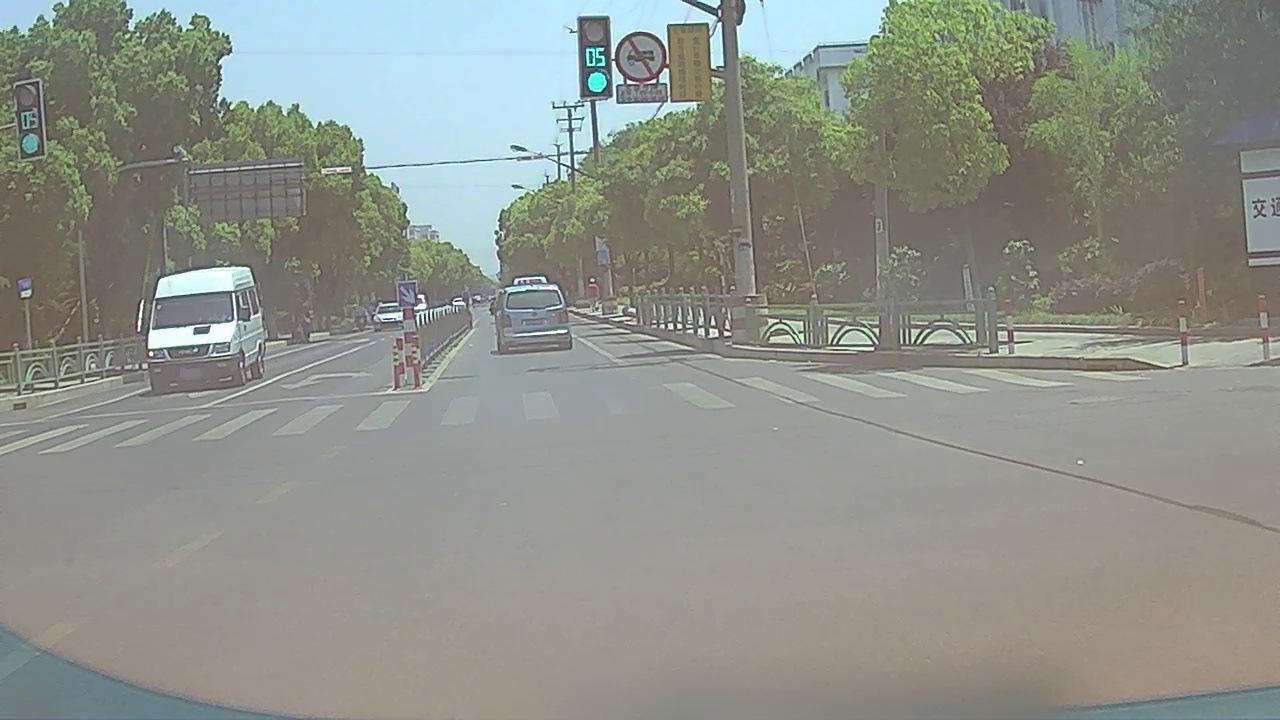traffic_light: (579, 18, 609, 99), (15, 83, 46, 160)
